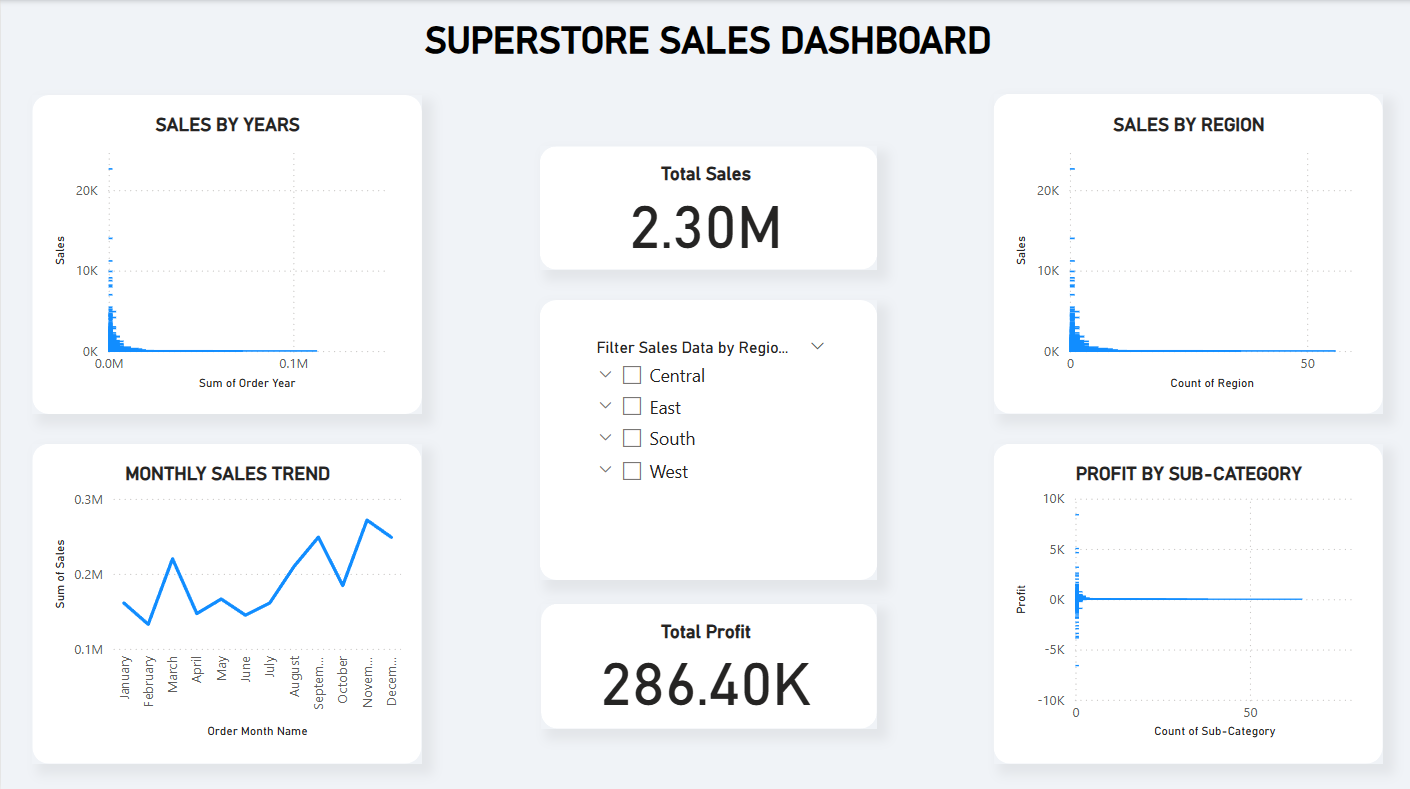

What the dashboard file says about the page in this screenshot:
{"tool":"powerbi","page":{"name":"Page 1","canvas":[1280,720],"ordinal":0},"visuals":[{"type":"shape","box":[900.6,85.4,353.6,290.7],"z":0},{"type":"shape","box":[900.6,402.2,353.6,290.7],"z":1000},{"type":"shape","box":[488.8,132.7,306.2,112.3],"z":1250},{"type":"shape","box":[490,547.8,305.1,113.4],"z":1500},{"type":"shape","box":[488.8,272.2,306.2,254.1],"z":2000},{"type":"shape","box":[28.5,86.6,353.6,289.5],"z":3000},{"type":"shape","box":[28.5,402.2,353.6,290.7],"z":4000},{"type":"barChart","title":"SALES BY YEARS","fields":{"Y":["Sum(Sample - Superstore.Order Year)"],"Category":["Sample - Superstore.Sales"]},"box":[42.7,103.2,325.1,255.1],"z":5000},{"type":"lineChart","title":"MONTHLY SALES TREND","fields":{"Category":["Sample - Superstore.Order Month Name"],"Y":["Sum(Sample - Superstore.Sales)"]},"box":[42.7,420,325.1,255.1],"z":6000},{"type":"barChart","title":"SALES BY REGION","fields":{"Category":["Sample - Superstore.Sales"],"Y":["CountNonNull(Sample - Superstore.Region)"]},"box":[914.8,103.2,325.1,255.1],"z":7000},{"type":"barChart","title":"PROFIT BY SUB-CATEGORY","fields":{"Category":["Sample - Superstore.Profit"],"Y":["CountNonNull(Sample - Superstore.Sub-Category)"]},"box":[914.8,420,325.1,255.1],"z":8000},{"type":"card","title":"Total Sales","fields":{"Values":["Sum(Sample - Superstore.Sales)"]},"box":[519.5,147.4,240.5,85.1],"z":9000},{"type":"card","title":"Total Profit","fields":{"Values":["Sum(Sample - Superstore.Profit)"]},"box":[519.5,562.6,240.5,83.9],"z":10000},{"type":"slicer","fields":{"Values":["Sample - Superstore.Region","Sample - Superstore.Segment","Sample - Superstore.Order Year","Sample - Superstore.Category"]},"box":[527.4,301.7,232.5,201.9],"z":11000},{"type":"textbox","box":[205.3,12.5,872.2,49.9],"z":12000}]}

Visuals, with their boxes in screenshot pixels (x1, y1, x2, y2), scaled from the page's 1280x720 canvas onto the 1410x789 screenshot:
shape: (992, 94, 1382, 412)
shape: (992, 441, 1382, 759)
shape: (538, 145, 876, 268)
shape: (540, 600, 876, 725)
shape: (538, 298, 876, 577)
shape: (31, 95, 421, 412)
shape: (31, 441, 421, 759)
"SALES BY YEARS" barChart: (47, 113, 405, 393)
"MONTHLY SALES TREND" lineChart: (47, 460, 405, 740)
"SALES BY REGION" barChart: (1008, 113, 1366, 393)
"PROFIT BY SUB-CATEGORY" barChart: (1008, 460, 1366, 740)
"Total Sales" card: (572, 162, 837, 255)
"Total Profit" card: (572, 617, 837, 708)
slicer - Sample - Superstore.Region x Sample - Superstore.Segment: (581, 331, 837, 552)
textbox: (226, 14, 1187, 68)
